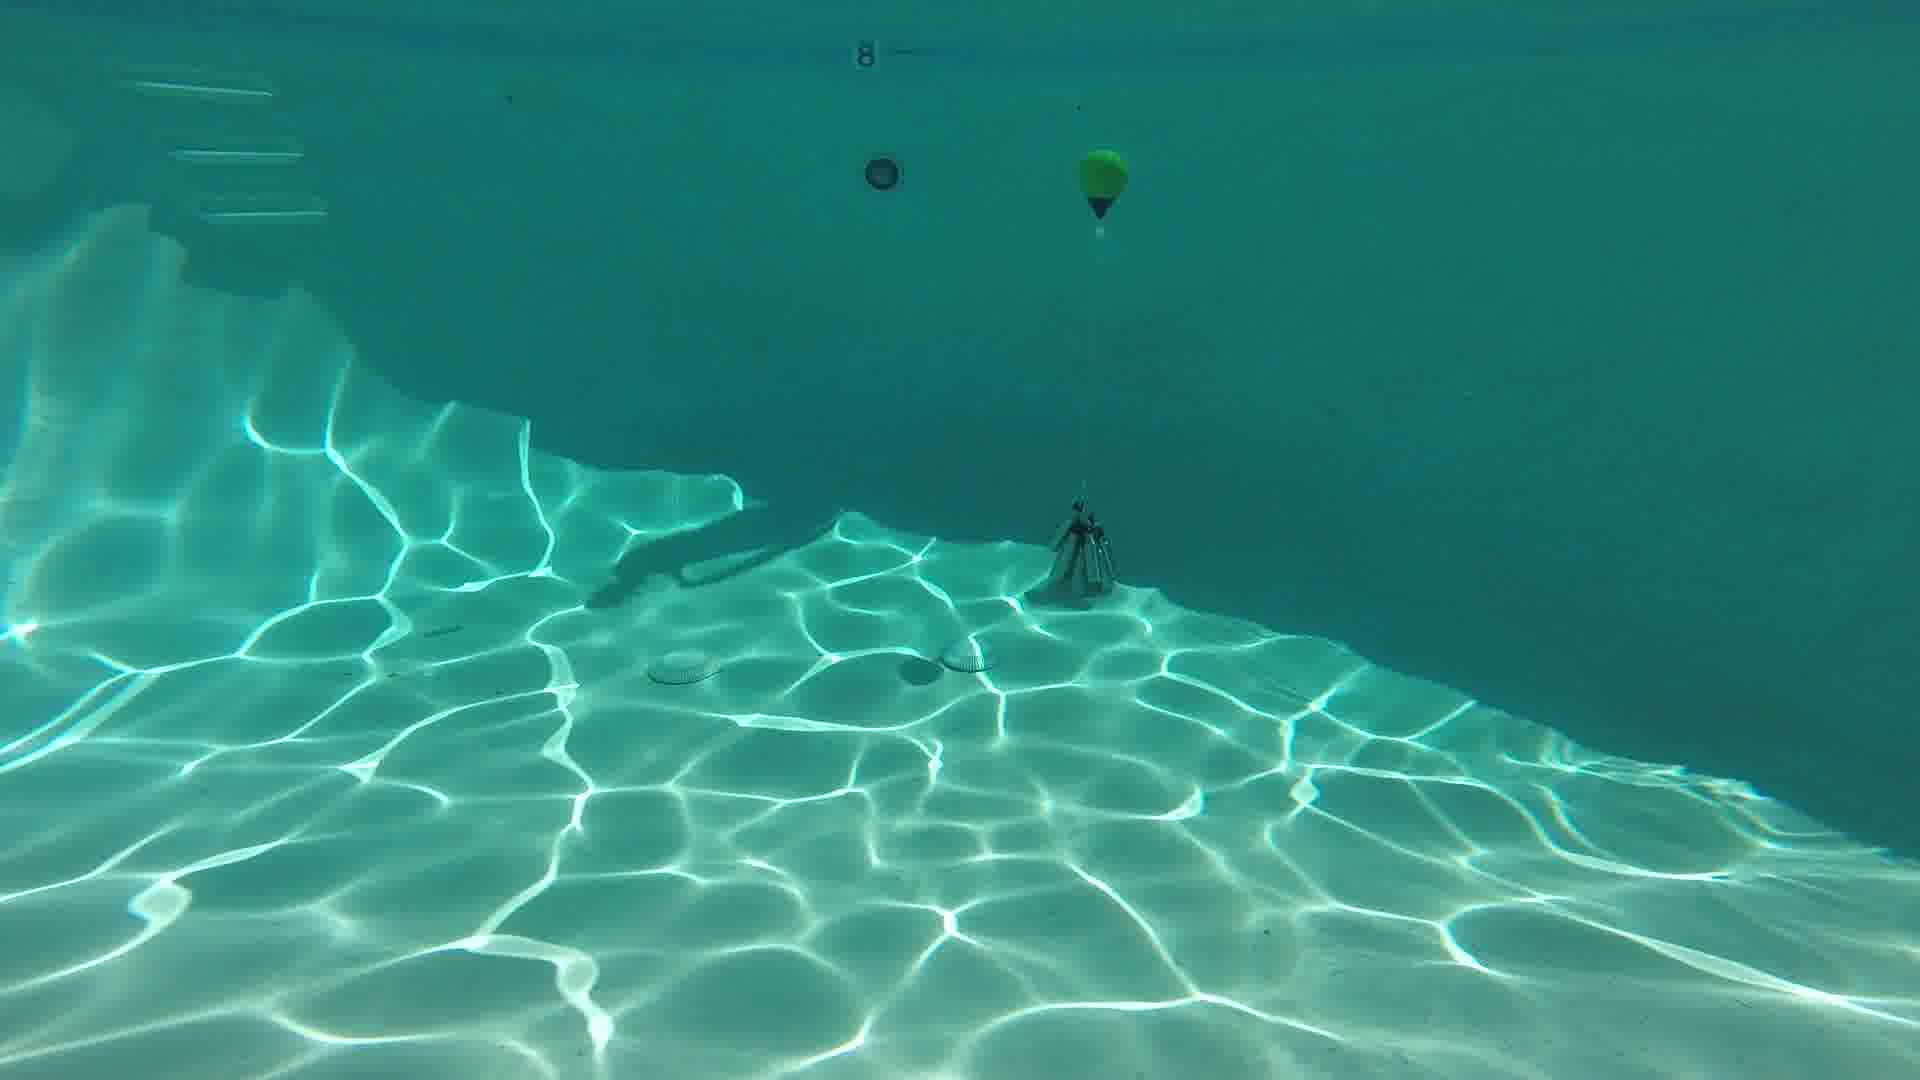yellow_buoy: (1080, 149, 1127, 218)
